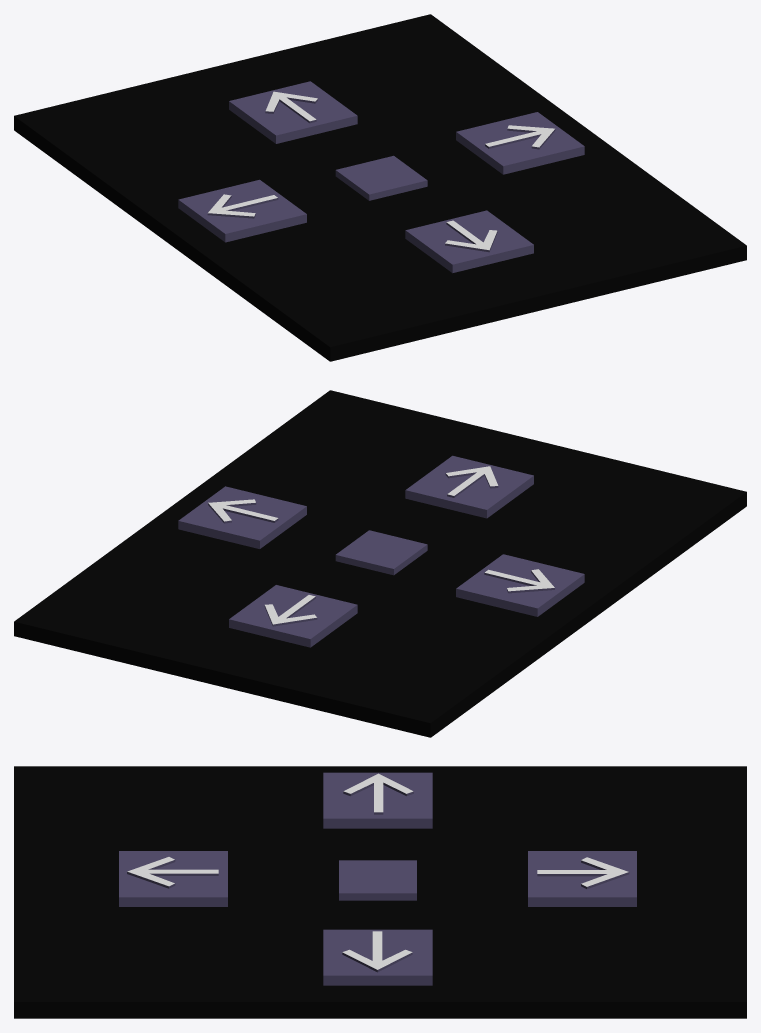
File: Digit pad arrows.fbx
The picture shows the model from 3 angles, top to bottom: view 1: azimuth 30°, elevation 25°; view 2: azimuth 150°, elevation 25°; view 3: azimuth 270°, elevation 25°; orthographic projection. The views are drawn at different scales.
Parts seen in each view (by area): view 1: Body, Rigth, Up, Bottom, Left, Centre; view 2: Body, Left, Rigth, Up, Bottom, Centre; view 3: Body, Rigth, Left, Up, Bottom, Centre.
Part boxes in pixels (<box>): Body: <box>14,14,746,361</box>; Rigth: <box>456,112,584,174</box>; Up: <box>229,81,357,143</box>; Bottom: <box>405,210,533,273</box>; Left: <box>178,179,306,242</box>; Centre: <box>335,155,427,200</box>; Body: <box>14,390,746,737</box>; Left: <box>456,554,584,616</box>; Rigth: <box>178,486,306,548</box>; Up: <box>229,585,357,647</box>; Bottom: <box>405,455,533,518</box>; Centre: <box>335,530,427,575</box>; Body: <box>14,766,746,1018</box>; Rigth: <box>323,929,432,985</box>; Left: <box>323,772,432,828</box>; Up: <box>528,851,636,906</box>; Bottom: <box>119,851,227,906</box>; Centre: <box>339,860,416,900</box>.
Bounding box in the file's own units: 300 × 17.29 × 394.
